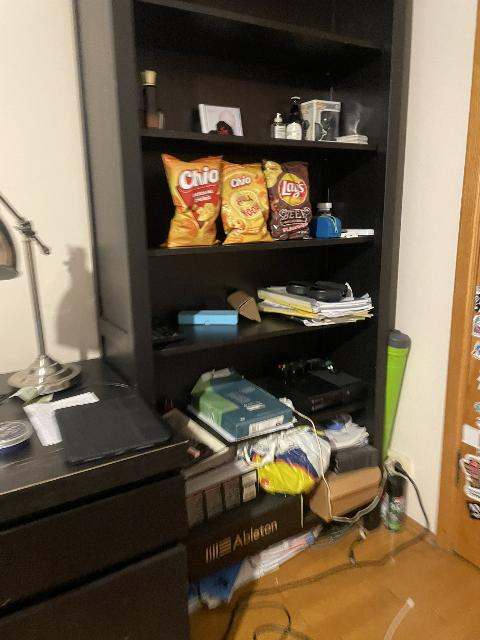Chio Cascaval 125g: (157, 153, 223, 247)
Chio Hula Hoops Cheese 70g: (219, 160, 273, 245)
Lays Beef Grilled Ribs 125g: (262, 158, 311, 241)
